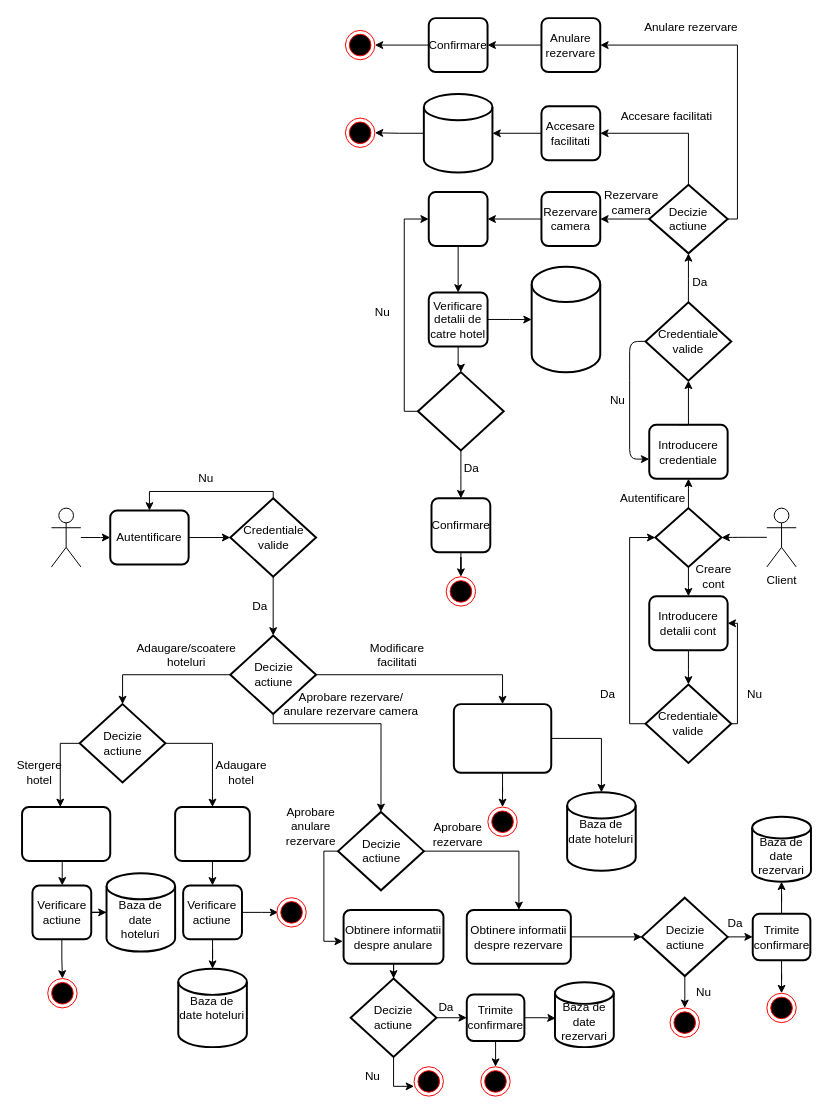
This 829x1113 diagram has some shape labels left out. Each missing label, with the centre of its shape:
"Actiune" belongs at (x=688, y=537).
"Administrator" belongs at (x=65, y=537).
"Alegere detalii rezervare" belongs at (x=457, y=218).
"Date despre camera aleasa" belongs at (x=565, y=319).
"Datele despre hotel" belongs at (x=457, y=133).
"Detalii valide" belongs at (x=460, y=411).
"Introducere informatii hotel existent" belongs at (x=66, y=833).
"Introducere informatii hotel nou" belongs at (x=212, y=833).
"Introducere noi detalii facilitati" belongs at (x=502, y=738).
